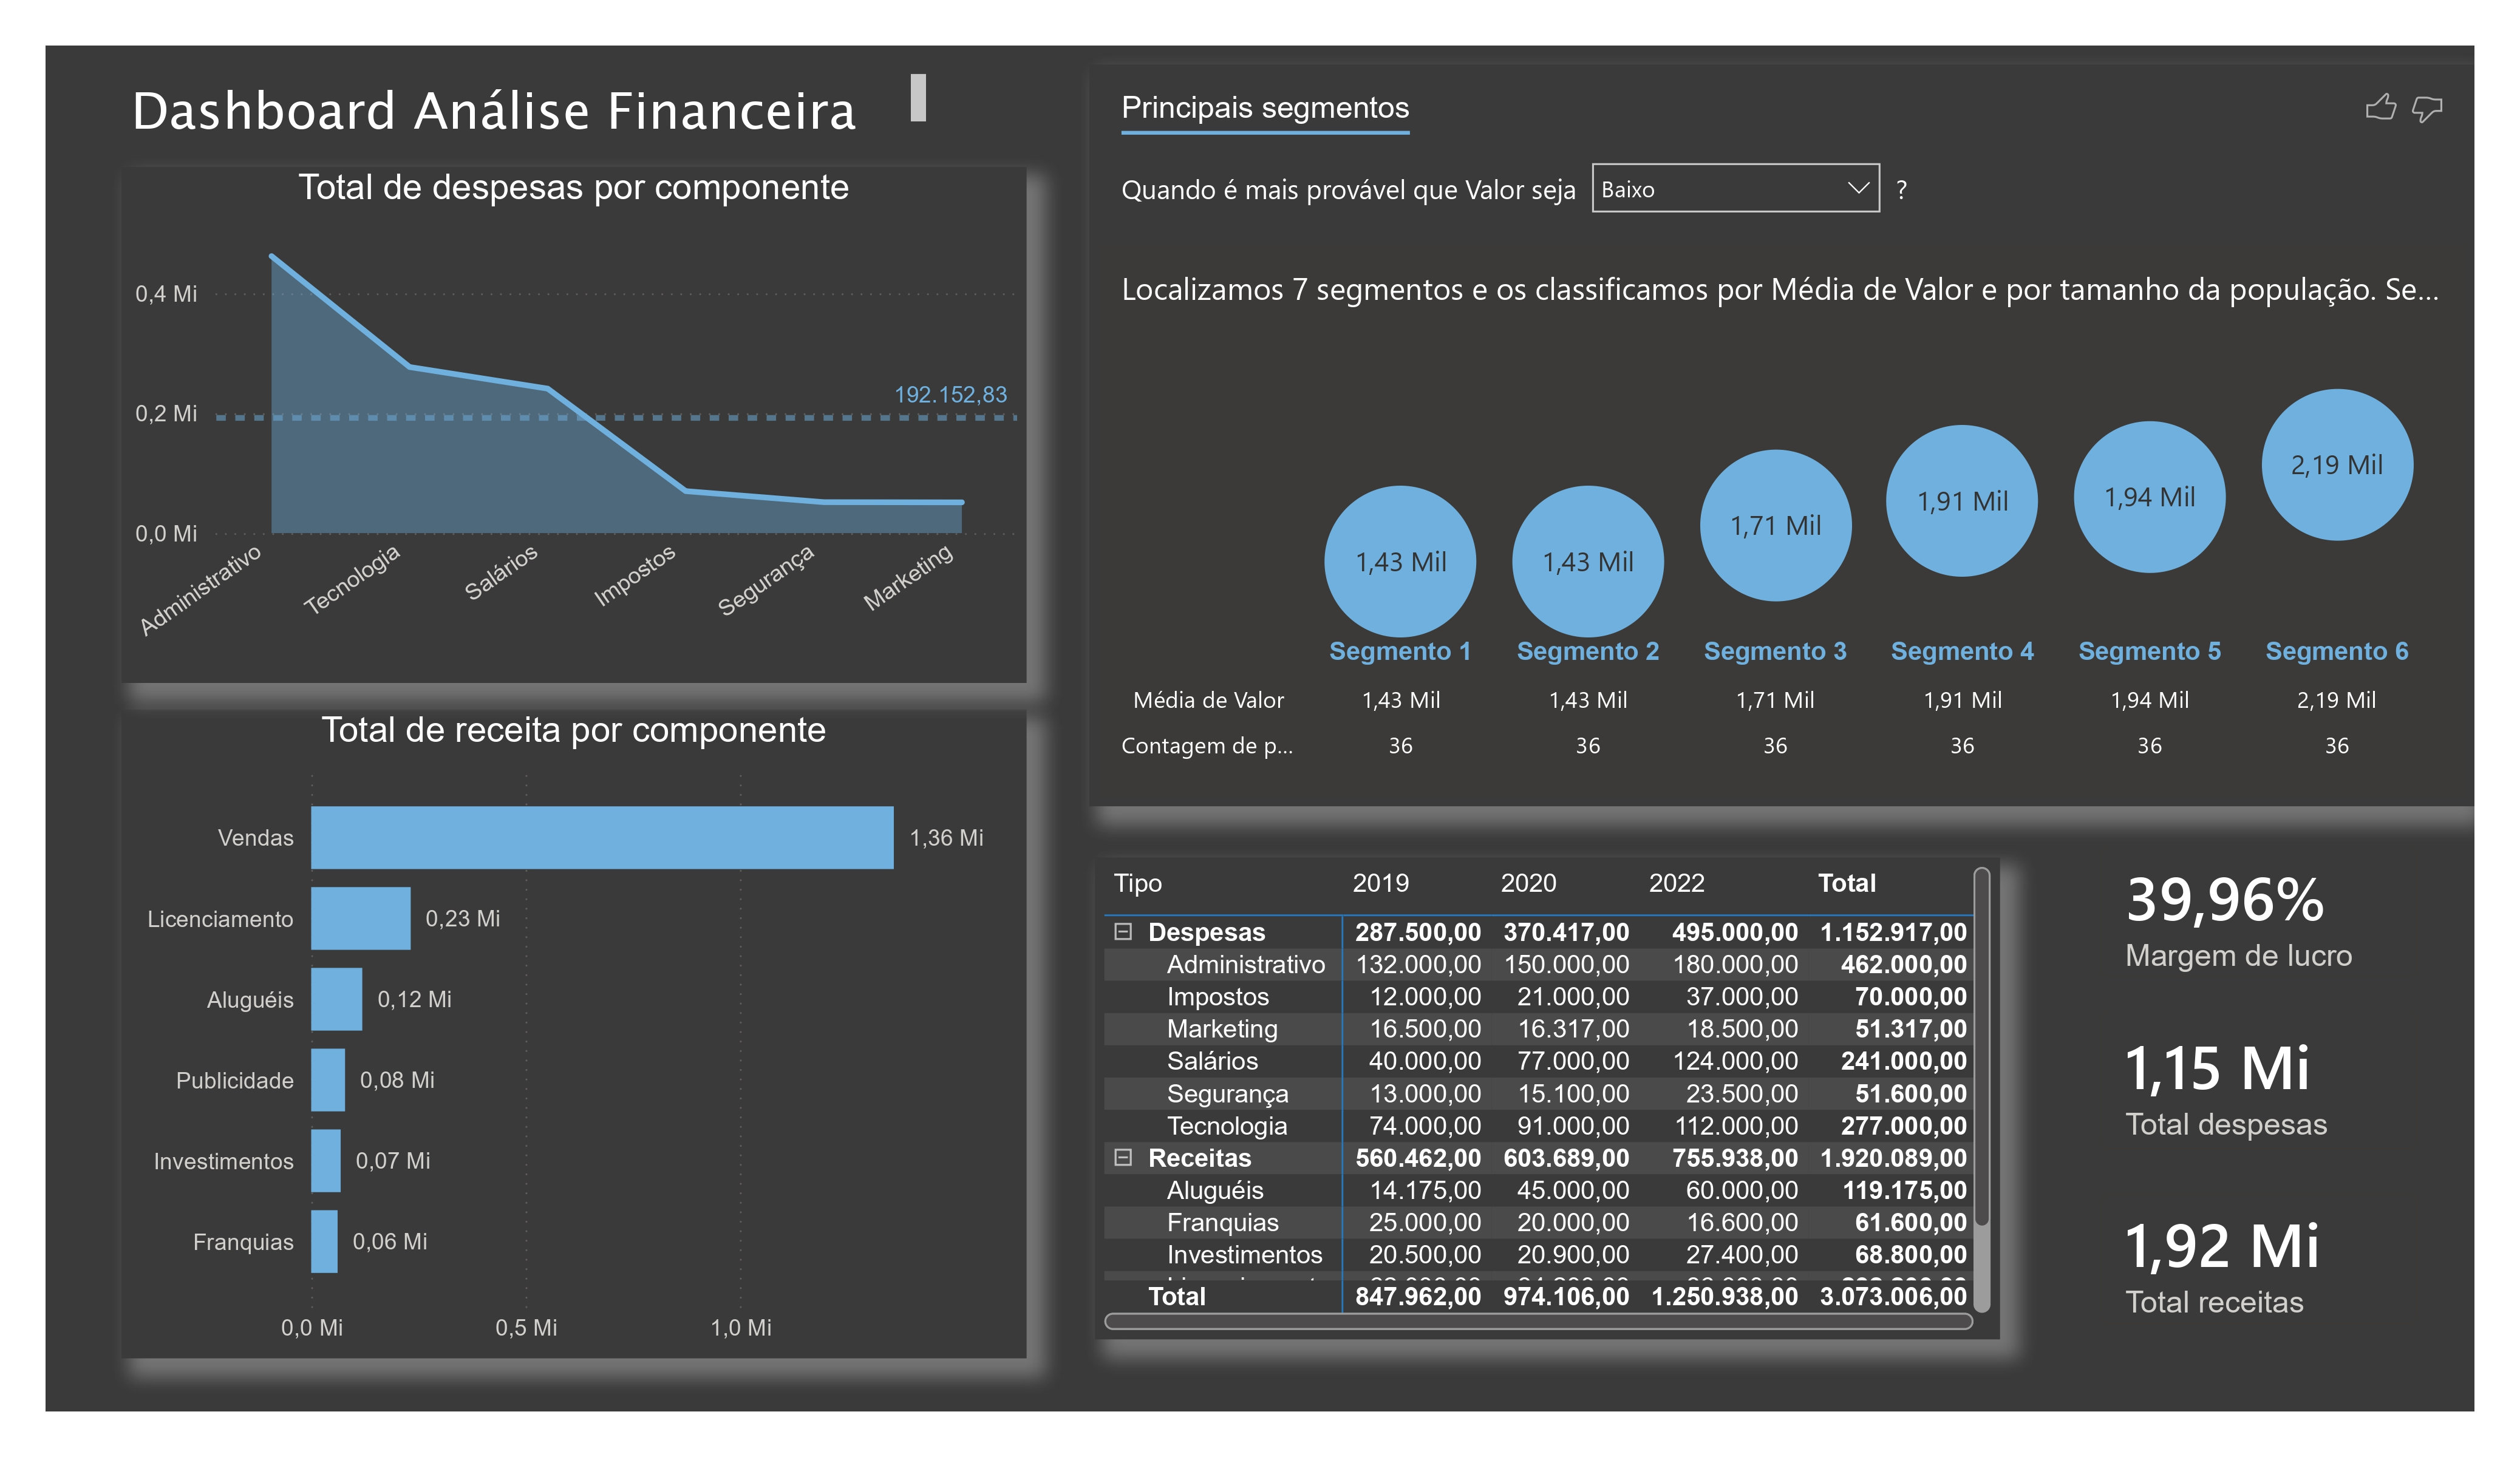

The dashboard page shown, as its layout file describes it:
{"tool":"powerbi","page":{"name":"Página 1","canvas":[1280,720],"ordinal":0},"visuals":[{"type":"cardVisual","fields":{"Data":["Calculos.Totalreceitas"]},"box":[1065.8,588.2,201.3,103.5],"z":0},{"type":"cardVisual","fields":{"Data":["Calculos.Totaldespesas"]},"box":[1065.8,491.8,201.3,107.7],"z":1},{"type":"cardVisual","fields":{"Data":["Calculos.%lucro"]},"box":[1065.8,405.4,201.3,103.5],"z":2},{"type":"clusteredBarChart","title":"Total de receita por componente","fields":{"Category":["DadosFinanceiros.Componente"],"Y":["Calculos.Totalreceitas"]},"box":[39.7,350.1,477.6,341.6],"z":3},{"type":"areaChart","title":"Total de despesas por componente","fields":{"Category":["DadosFinanceiros.Componente"],"Y":["Calculos.Totaldespesas"]},"box":[39.7,63.8,477.6,272.1],"z":4},{"type":"pivotTable","fields":{"Rows":["DadosFinanceiros.Tipo","DadosFinanceiros.Componente"],"Values":["Sum(DadosFinanceiros.Valor)"],"Columns":["DadosFinanceiros.Data.Variation.Hierarquia de datas.Ano"]},"box":[552.8,428,477.6,253.7],"z":5},{"type":"textbox","box":[39.7,9.9,429.4,42.5],"z":6},{"type":"keyDriversVisual","fields":{"Target":["DadosFinanceiros.Valor"],"ExplainBy":["DadosFinanceiros.Tipo","DadosFinanceiros.Componente"]},"box":[549.9,9.9,729.9,391.2],"z":7}]}

Visuals, with their boxes on the page's 1280x720 design canvas (x1, y1, x2, y2). These are canvas units, not pixel positions in the 2520x1457 screenshot, which may show the page scaled, cropped or inside an application window:
cardVisual - Calculos.Totalreceitas: BBox(1066, 588, 1267, 692)
cardVisual - Calculos.Totaldespesas: BBox(1066, 492, 1267, 600)
cardVisual - Calculos.%lucro: BBox(1066, 405, 1267, 509)
"Total de receita por componente" clusteredBarChart: BBox(40, 350, 517, 692)
"Total de despesas por componente" areaChart: BBox(40, 64, 517, 336)
pivotTable - DadosFinanceiros.Tipo x DadosFinanceiros.Componente: BBox(553, 428, 1030, 682)
textbox: BBox(40, 10, 469, 52)
keyDriversVisual - DadosFinanceiros.Valor x DadosFinanceiros.Tipo: BBox(550, 10, 1280, 401)
